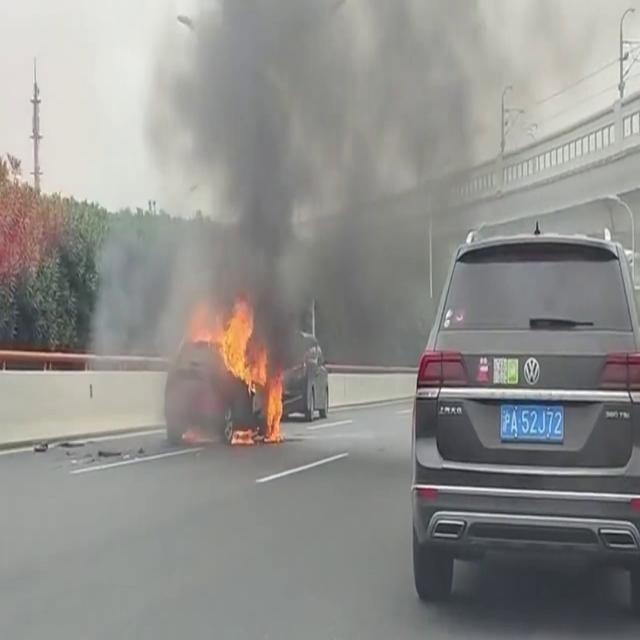accident: (163, 334, 281, 444)
